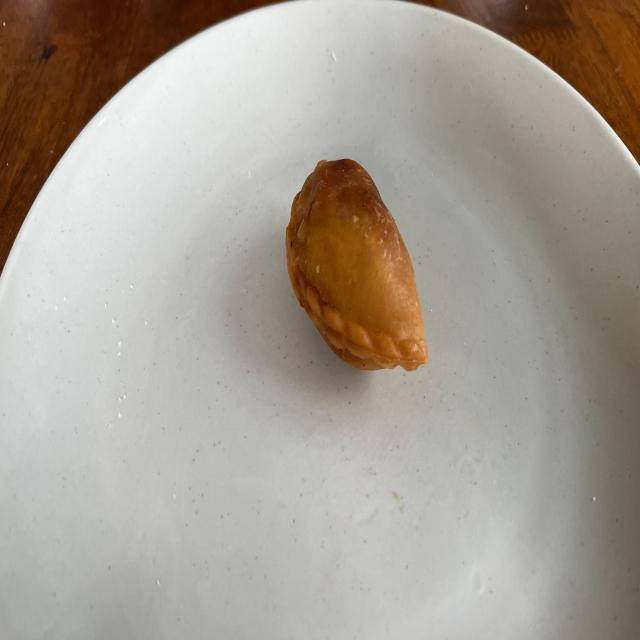karipap: (286, 158, 428, 371)
